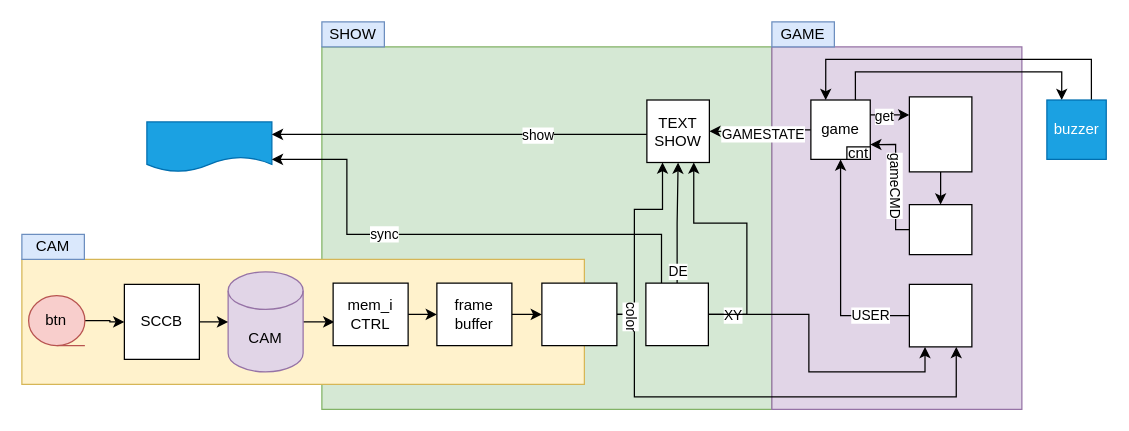
Some shapes in this 1129 by 431 pixel diagram are drawn without their labels. The centre of each missing label's shape, as x and y in pixels:
"FLAG CMD" belongs at (x=940, y=229).
"mem_o CTRL" belongs at (x=579, y=314).
"MONITOR" belongs at (x=209, y=146).
"RAND" belongs at (x=940, y=134).
"user col find" belongs at (x=940, y=315).
"VGA CTRL" belongs at (x=676, y=314).
